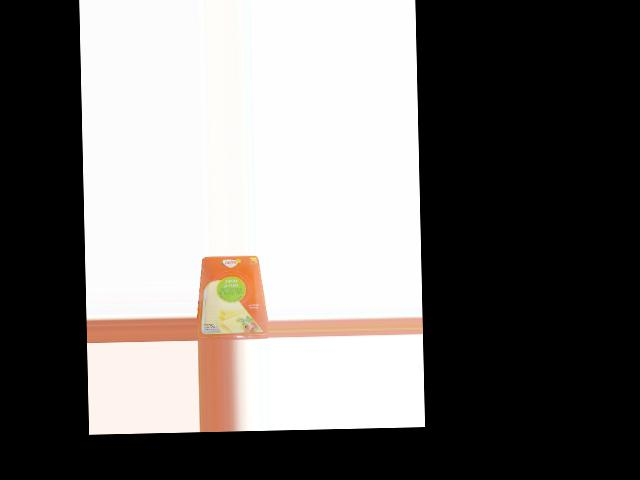cheese: (197, 255, 269, 340)
